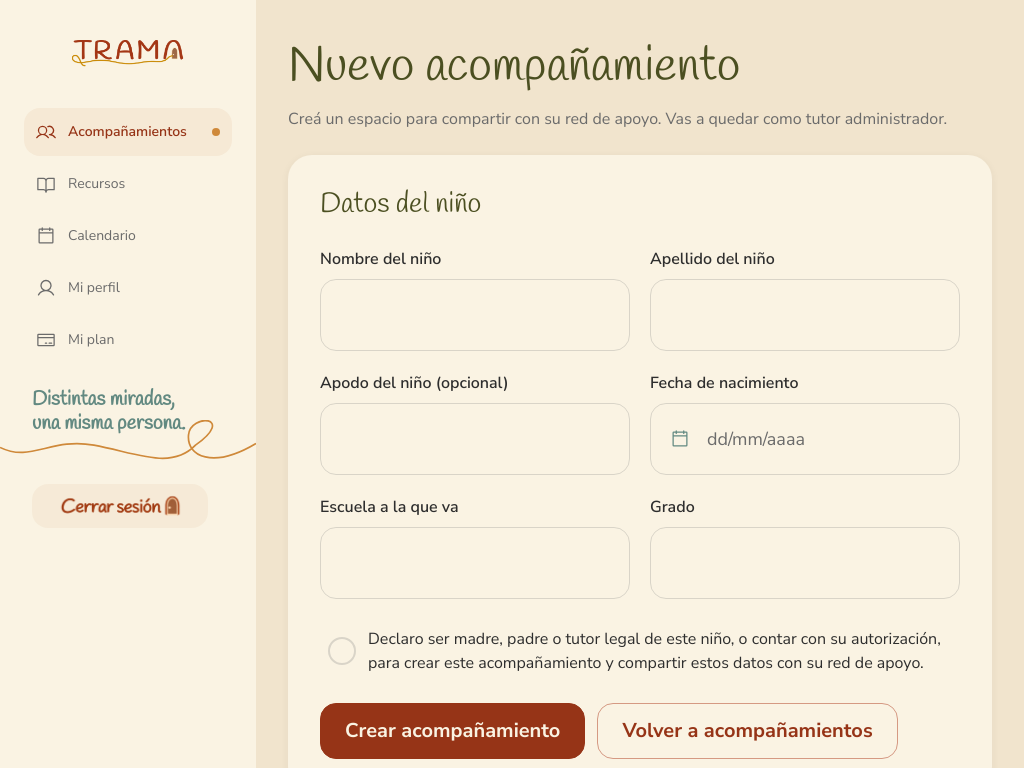
Scenario: Alta real de acompañamiento › rechaza una fecha futura y mantiene los datos cargados
Type "Luz ficticia" into the field named "Nombre del niño" below "Nombre del niño" at [475, 315], box [320,279,630,351]
Type "Ejemplo" into the field named "Apellido del niño" below "Apellido del niño" at [805, 315], box [650,279,960,351]
Type "Escuela ficticia" into the field named "Escuela a la que va" below "Escuela a la que va" at [475, 563], box [320,527,630,599]
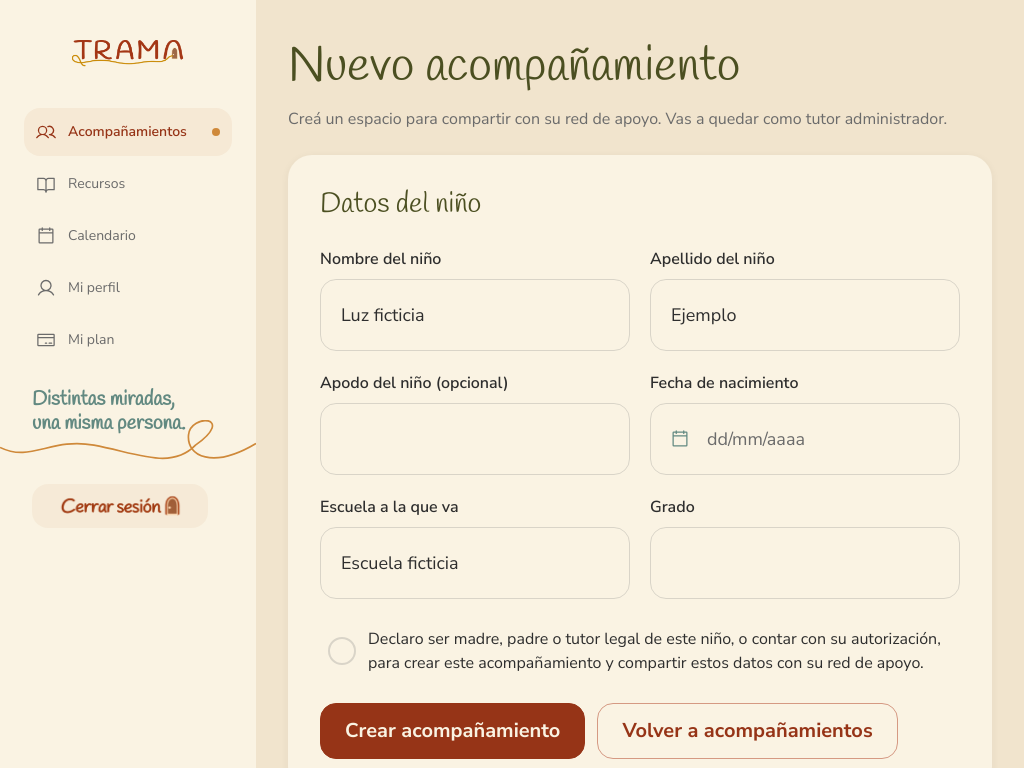
Type "2.º" into the field named "Grado" below "Grado" at [805, 563], box [650,527,960,599]
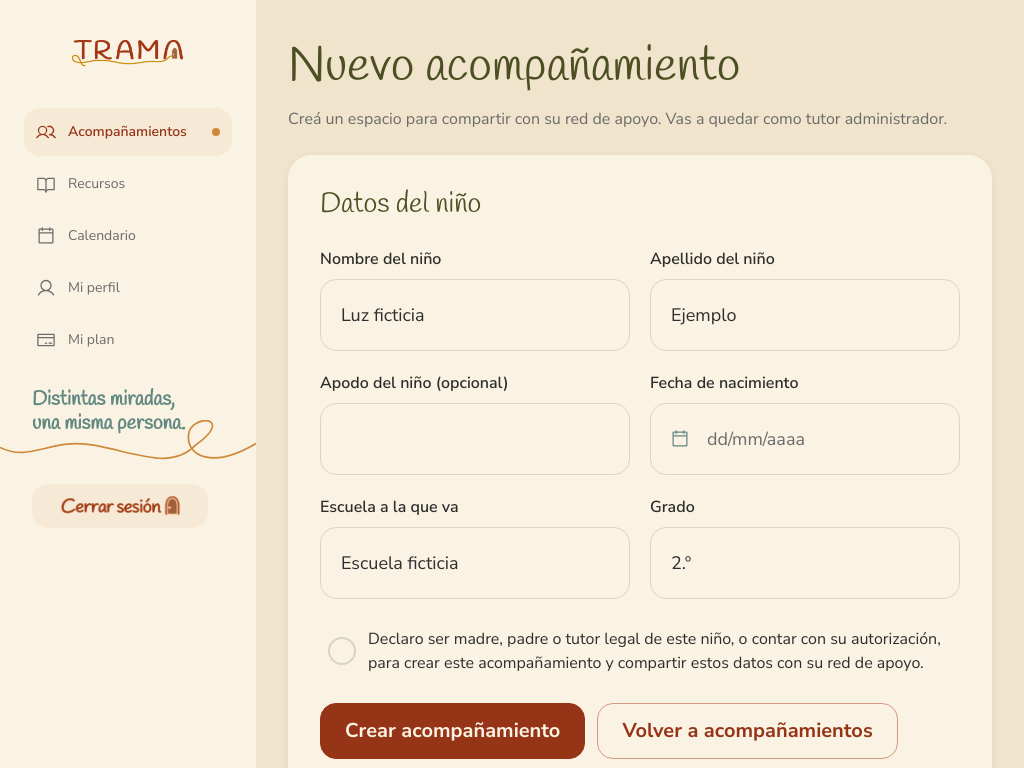
Type "2018-05-12" into the field named "Fecha de nacimiento" at [805, 439], box [650,403,960,475]
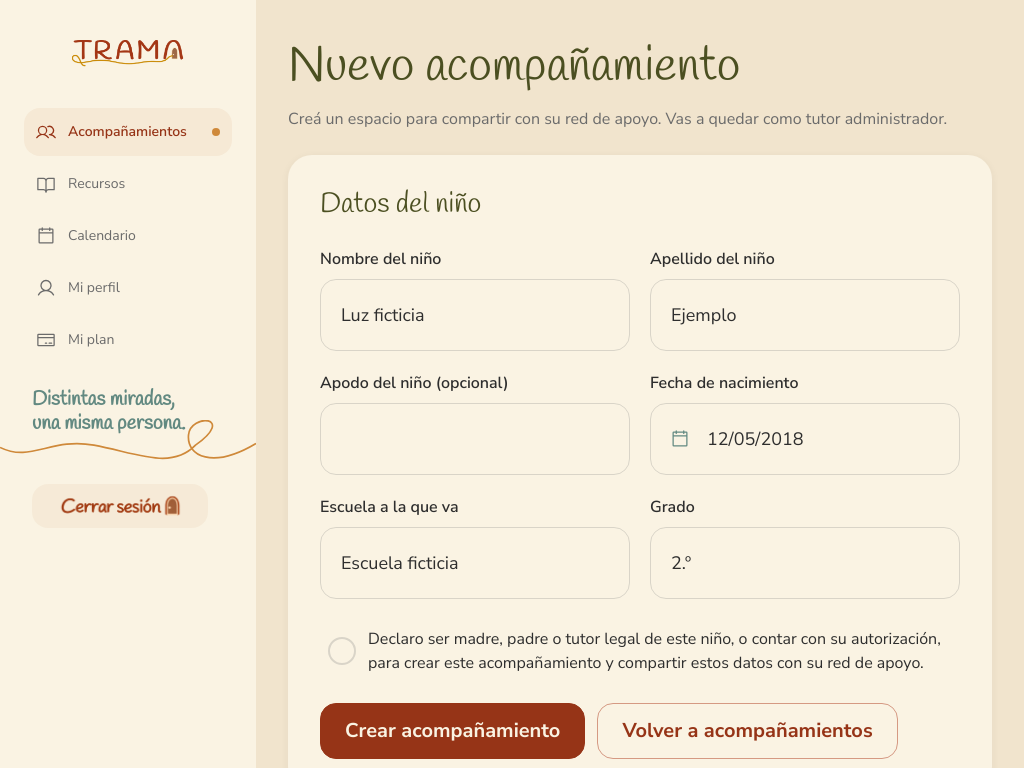
Click the checkbox at [640, 651], box [320,623,960,679]
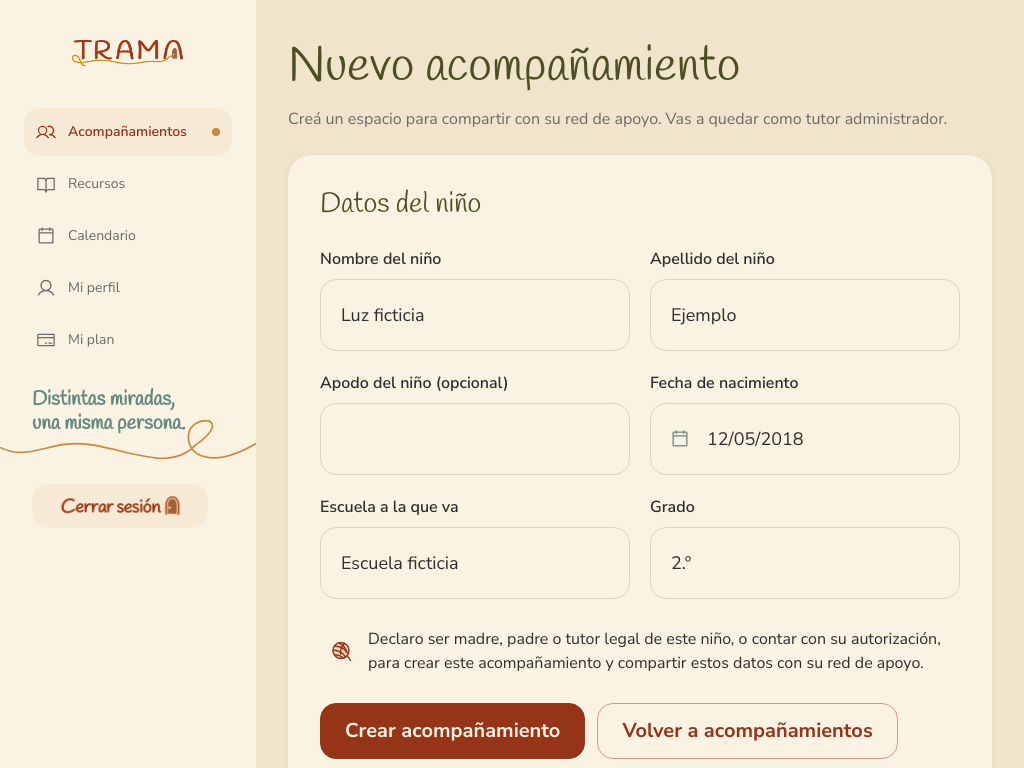
Replace the text in the field named "Fecha de nacimiento" below "Fecha de nacimiento" with "2999-01-01" at [805, 439], box [650,403,960,475]
(page scrolled)
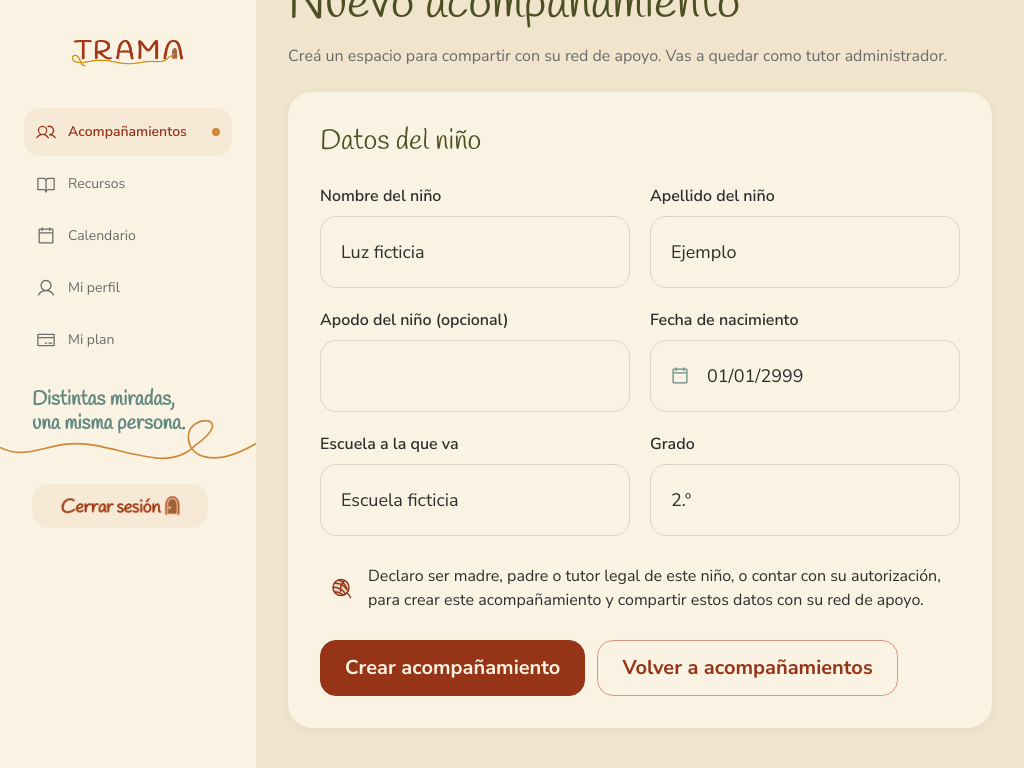
Submit the form named "Crear acompañamiento", box [288,92,992,728]
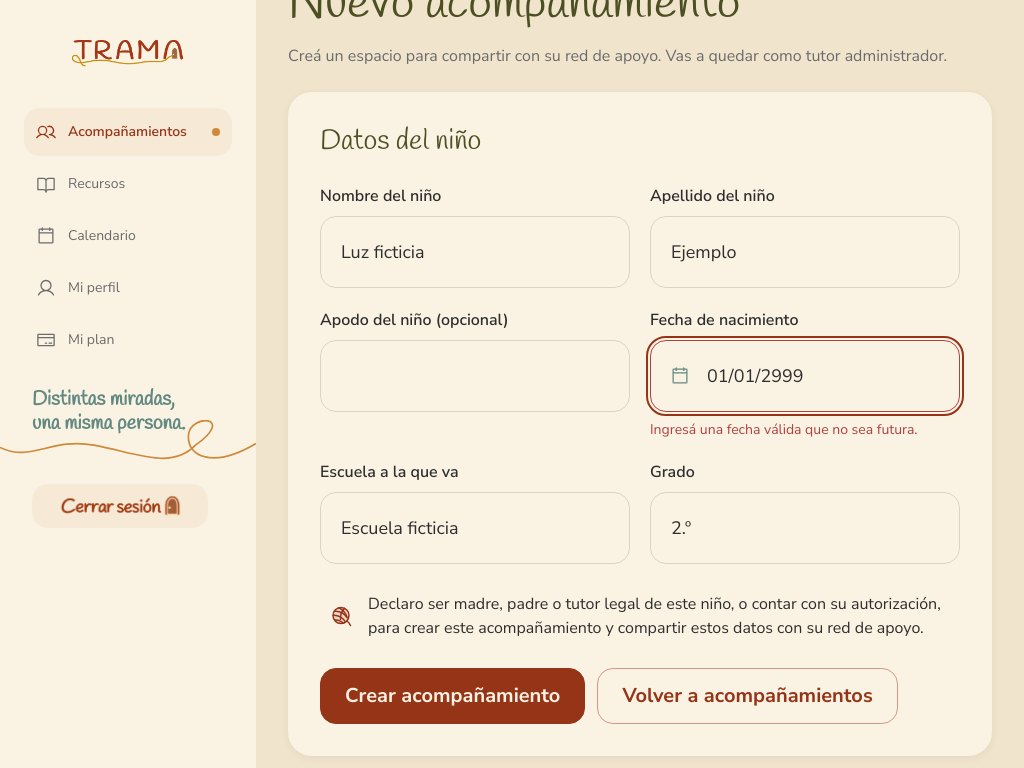
Result: the text "Ingresá una fecha válida que no sea futura." is shown at [650,420,960,440]
